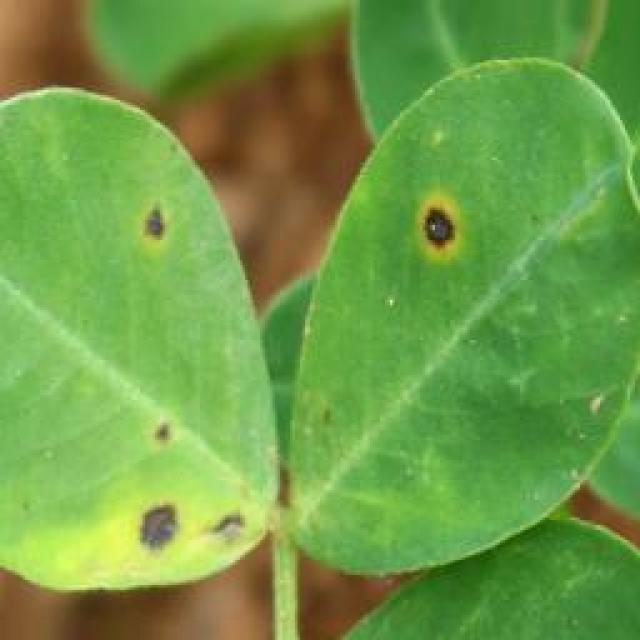Sigatoka: (118, 478, 277, 570), (388, 184, 465, 292), (132, 182, 186, 288), (134, 394, 196, 458)
